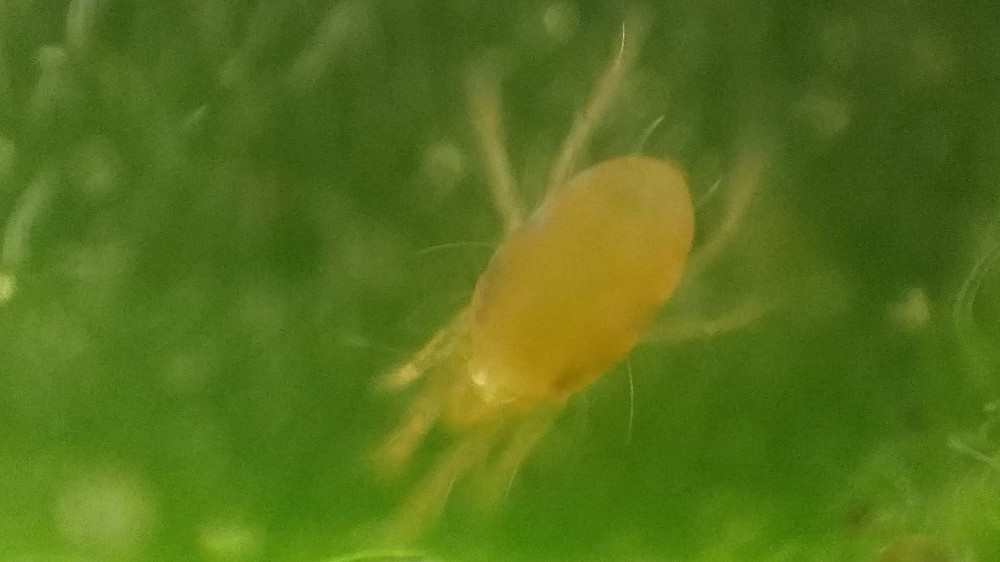Aracnido Rojo: (357, 31, 798, 532)
